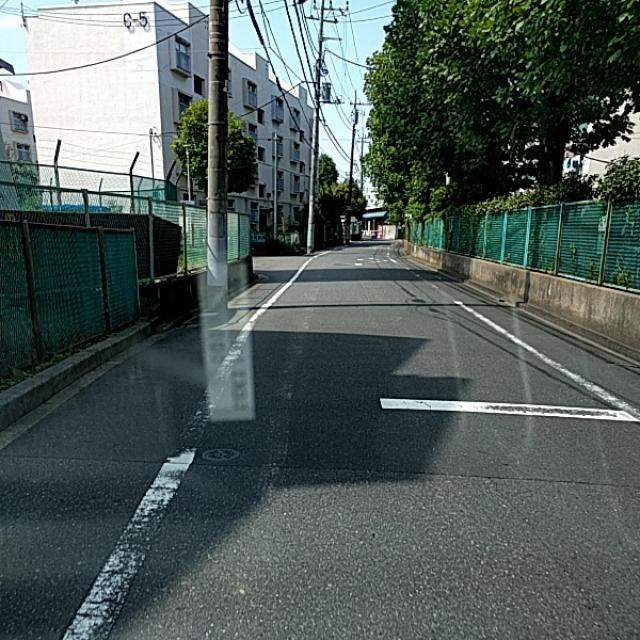pothole: (93, 442, 195, 533)
